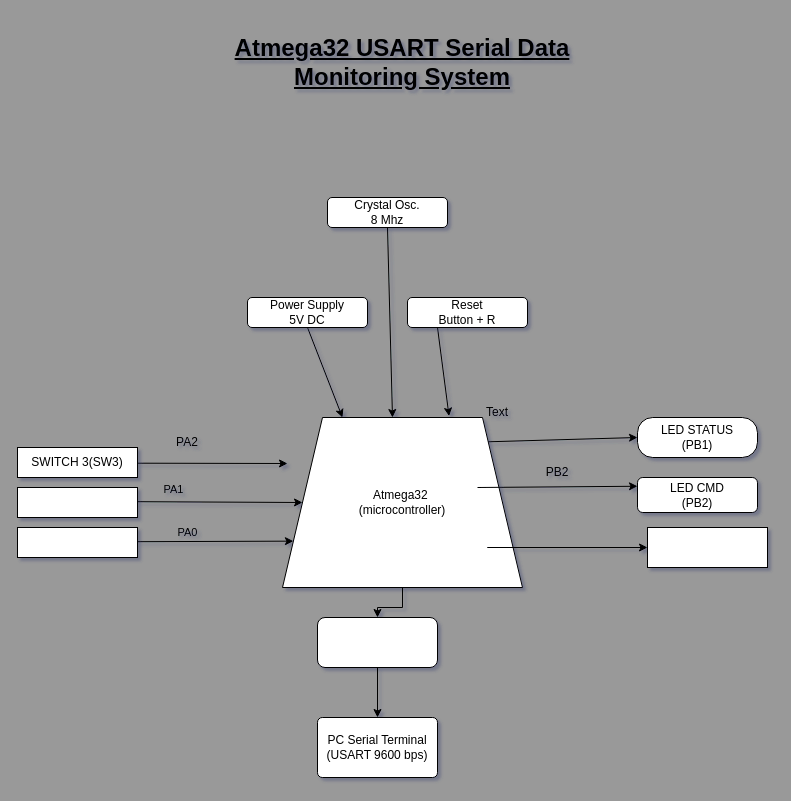
Some shapes in this 791 by 801 pixel diagram are drawn without their labels. Here are the shapes that lost their labels. From the top down, the centre of each, then its label:
the point at 77,502: SWITCH 2(SW2)
the point at 77,542: SWITCH 1(SW1)
the point at 707,547: RV1 Potentiometer LCD contrast (VO)
the point at 377,642: J1 header (4pin) PD0(RXD),PD1(TXD)
